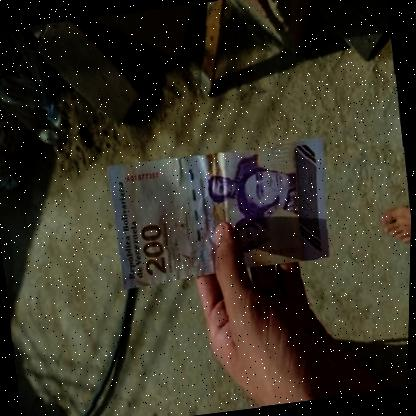vef_front: (106, 135, 340, 289)
